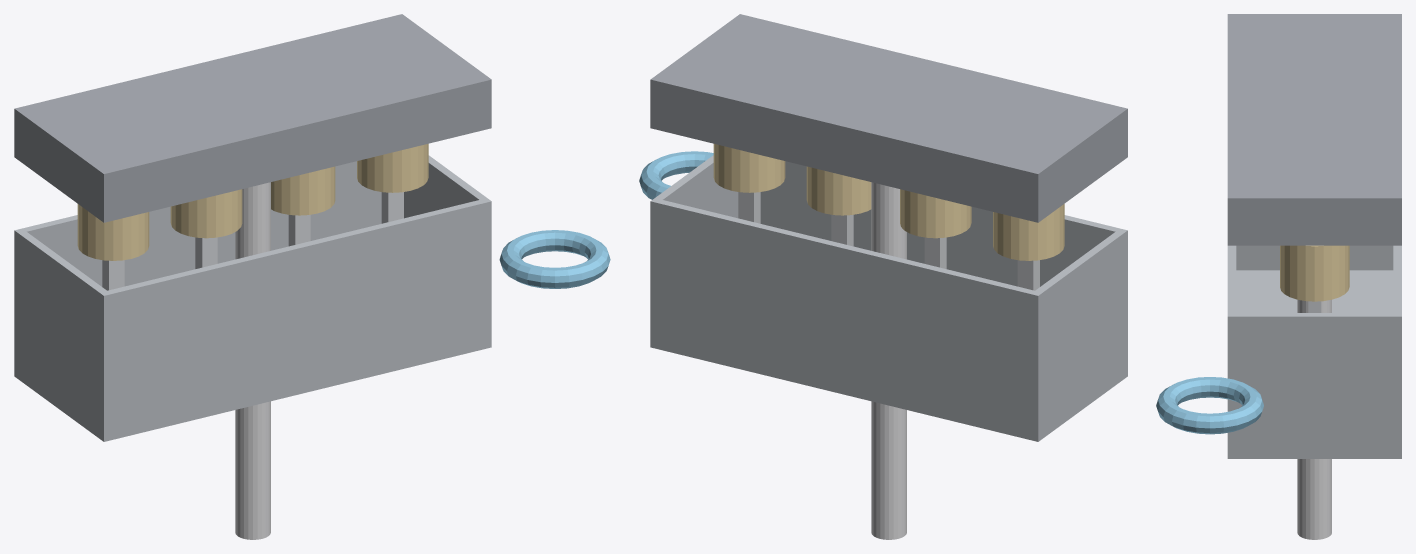
The model's file is moteur-test.glb.
3 renders of one model, left to right at view 1: azimuth 30°, elevation 25°; view 2: azimuth 150°, elevation 25°; view 3: azimuth 270°, elevation 25°, orthographic. The views are drawn at different scales.
Visible parts, largest first — view 1: Carter, Culasse, Vilebrequin, Pièce mystère 77, Piston 1, Piston 2, Piston 4, Piston 3; view 2: Carter, Culasse, Vilebrequin, Piston 1, Piston 4, Piston 2, Piston 3, Pièce mystère 77, Bielle 4, Bielle 3, Bielle 2, Bielle 1; view 3: Culasse, Carter, Pièce mystère 77, Piston 4, Vilebrequin.
Boxes of the visible parts, x1,y1,x2,y2 form: Carter: (14, 155, 491, 441); Culasse: (14, 14, 491, 222); Vilebrequin: (235, 182, 270, 539); Pièce mystère 77: (499, 230, 610, 288); Piston 1: (77, 204, 149, 260); Piston 2: (170, 189, 242, 238); Piston 4: (357, 143, 428, 192); Piston 3: (271, 166, 335, 215); Carter: (650, 155, 1127, 441); Culasse: (650, 14, 1127, 222); Vilebrequin: (871, 182, 906, 539); Piston 1: (993, 204, 1064, 260); Piston 4: (713, 144, 785, 192); Piston 2: (900, 189, 971, 238); Piston 3: (806, 166, 871, 215); Pièce mystère 77: (639, 151, 713, 199); Bielle 4: (738, 192, 760, 223); Bielle 3: (831, 214, 853, 246); Bielle 2: (924, 237, 946, 268); Bielle 1: (1017, 260, 1039, 290); Culasse: (1227, 14, 1401, 245); Carter: (1227, 245, 1401, 458); Pièce mystère 77: (1156, 377, 1263, 434); Piston 4: (1280, 245, 1349, 301); Vilebrequin: (1297, 299, 1331, 539).
Bounding box in the file's own units: 0.632 × 0.54 × 0.282.
